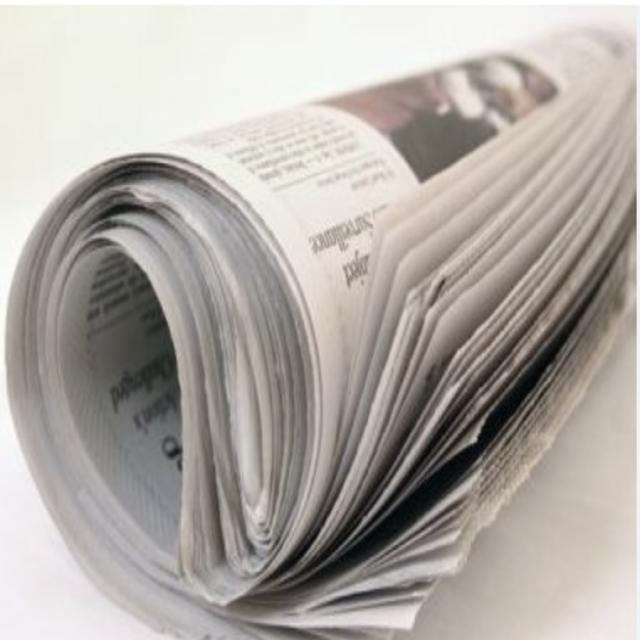biodegradable: (10, 19, 640, 639)
